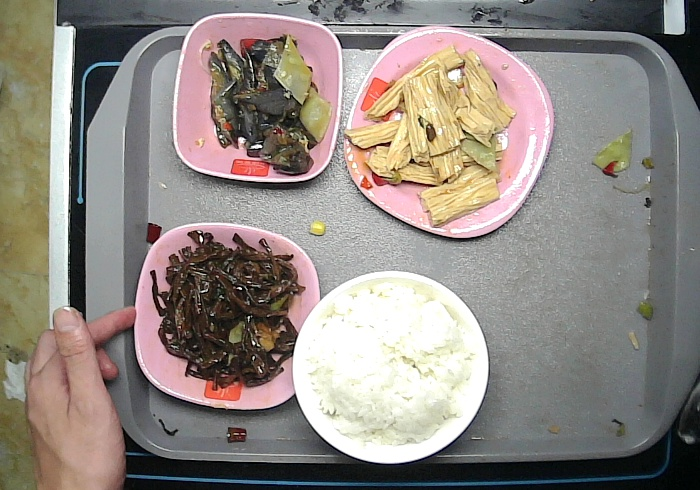SHKJ-Fan_Wan: (290, 271, 491, 466)
SHKJ-Fen_Se_Cai_Die: (133, 222, 320, 414)
SHKJ-Fen_Se_Si_Fang_Cai_Die: (344, 24, 557, 240)
SHKJ-Fen_Se_Xiao_Fang_Die: (172, 10, 343, 184)
